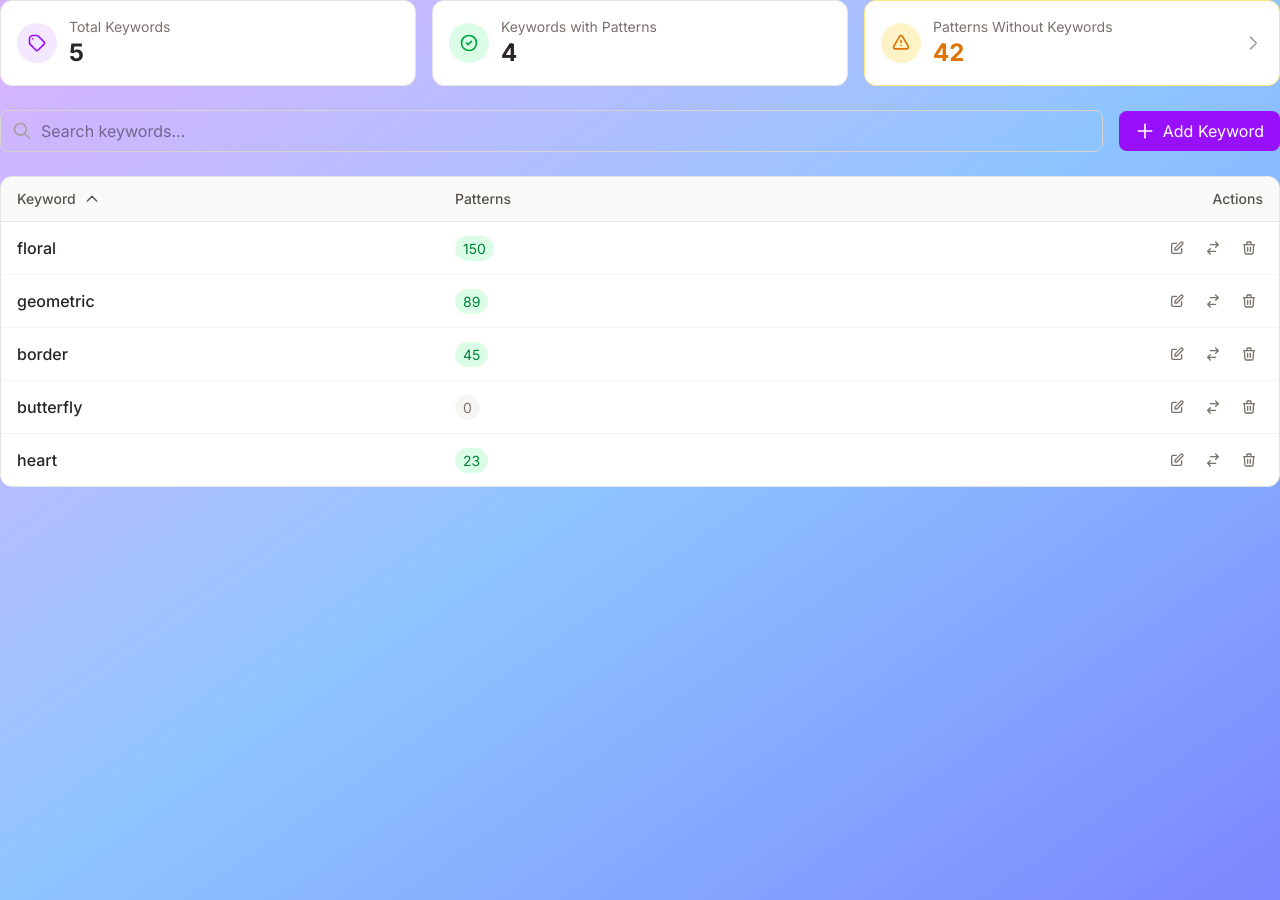
Test: KeywordManager › edit keyword modal › closes edit modal when Cancel is clicked
Check: the text "floral" is shown, box x1=17 y1=238 x2=56 y2=258
Click the button titled "Edit keyword" in the row of "floral" at (1177, 248), box x1=1163 y1=234 x2=1191 y2=262
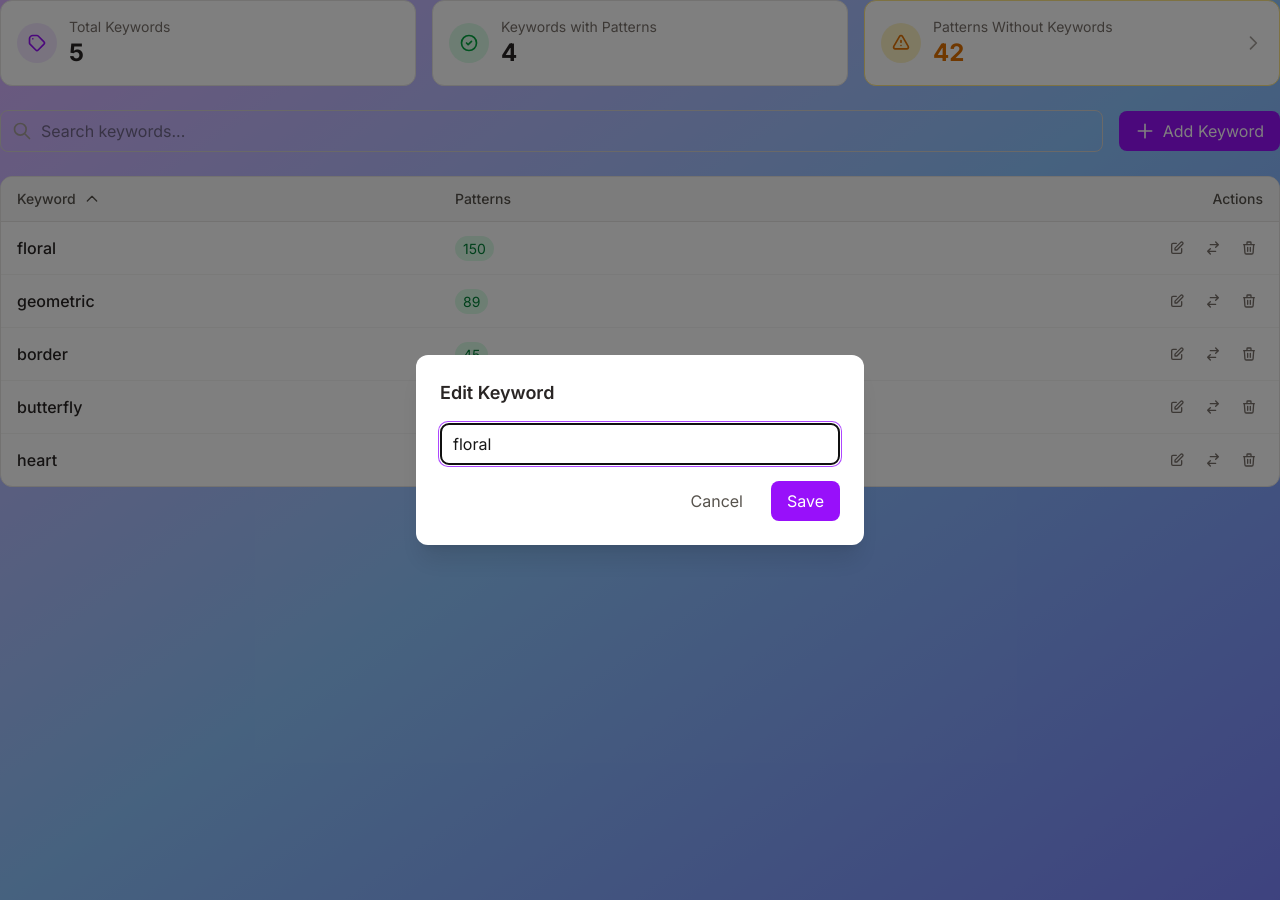
Check: the heading "Edit Keyword" is shown, box x1=440 y1=382 x2=554 y2=403
Click the button "Cancel" at (717, 501), box x1=674 y1=481 x2=759 y2=521
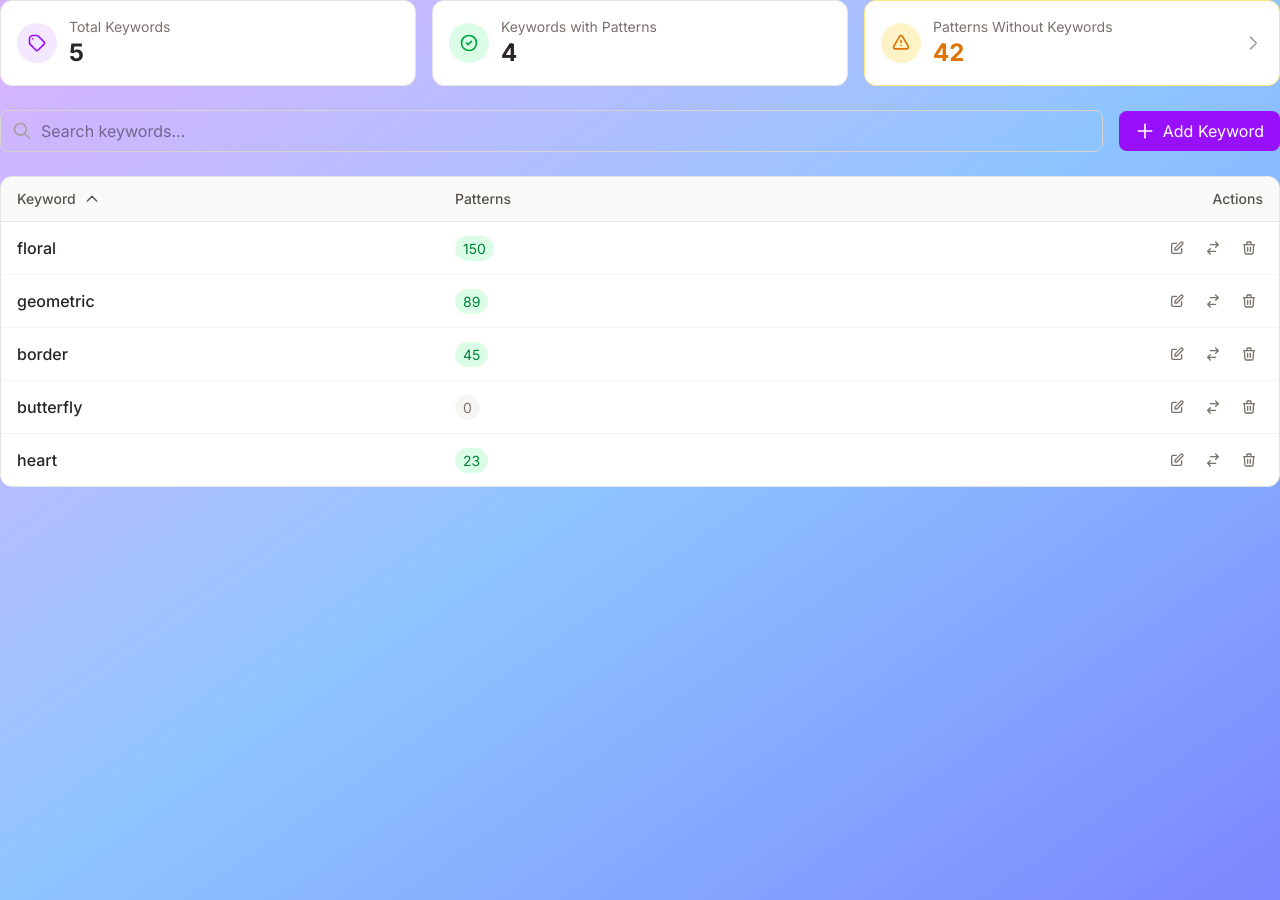
Check: the heading "Edit Keyword" is gone
